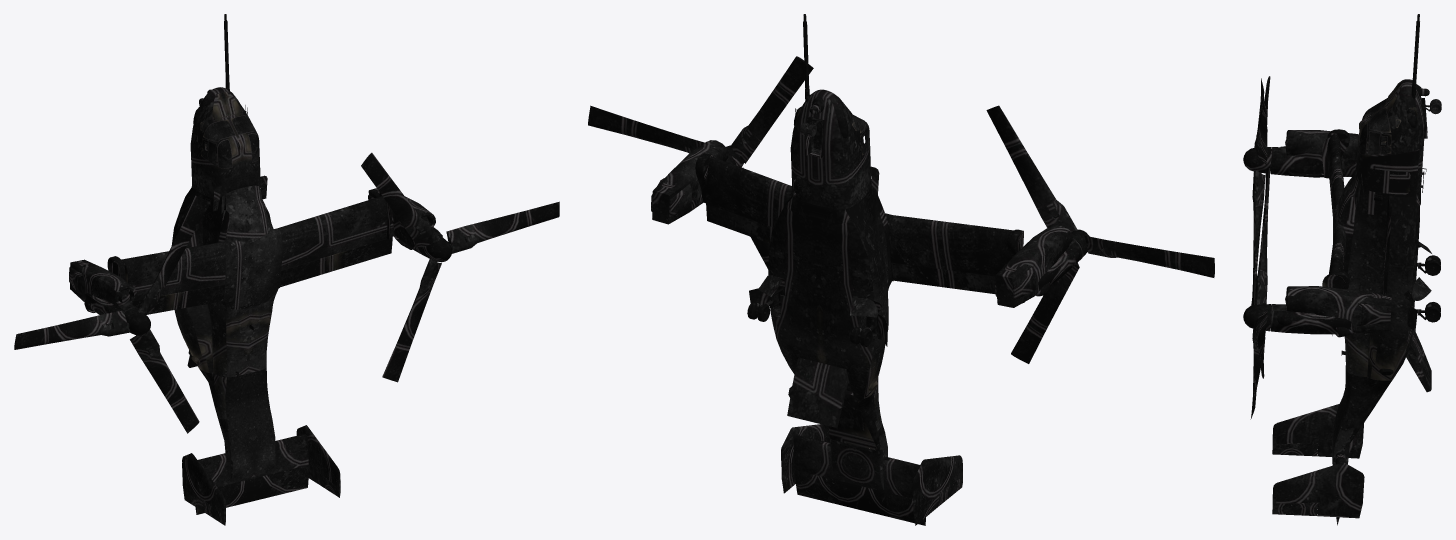
Rendered from v22-osprey-military.glb.
The picture shows the model from 3 angles, left to right: view 1: azimuth 30°, elevation 25°; view 2: azimuth 150°, elevation 25°; view 3: azimuth 270°, elevation 25°; orthographic projection. The views are drawn at different scales.
Parts seen in each view (by area): view 1: mesh (×3); view 2: mesh (×2); view 3: mesh (×3).
Part boxes in pixels (x1,y1,x2,y2): mesh (×3): [14, 14, 559, 525]; mesh (×2): [588, 14, 1214, 525]; mesh (×3): [1243, 14, 1441, 525].
Bounding box in the file's own units: 964 × 772 × 284.
Materials: 1 (1 with a texture image).
